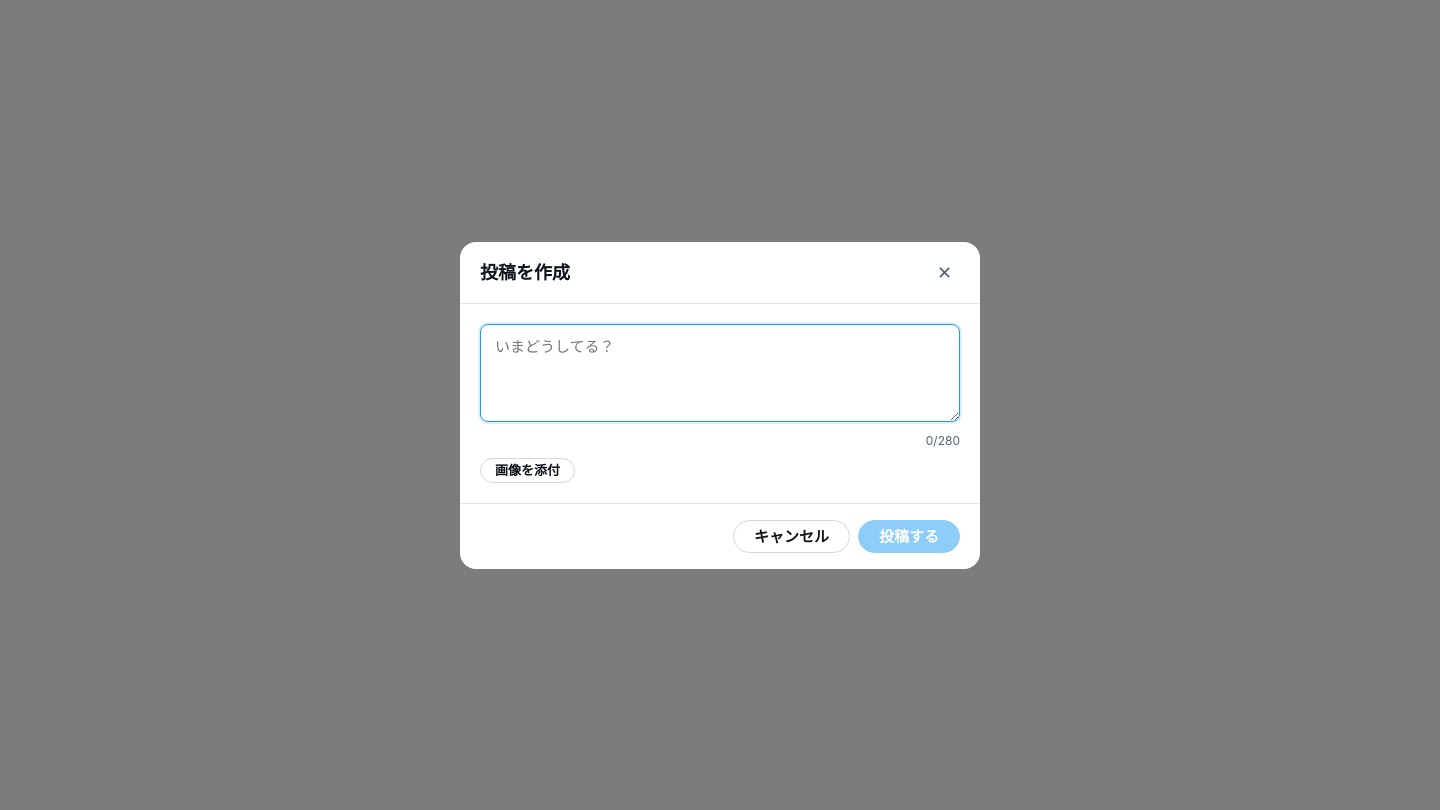
Scenario: CreatePostModal › 投稿失敗（無効クラス：APIエラー）→ エラーメッセージが表示される
In the text box with placeholder "いまどうしてる？": [720, 372] box [480, 324, 960, 422], type "投稿内容"
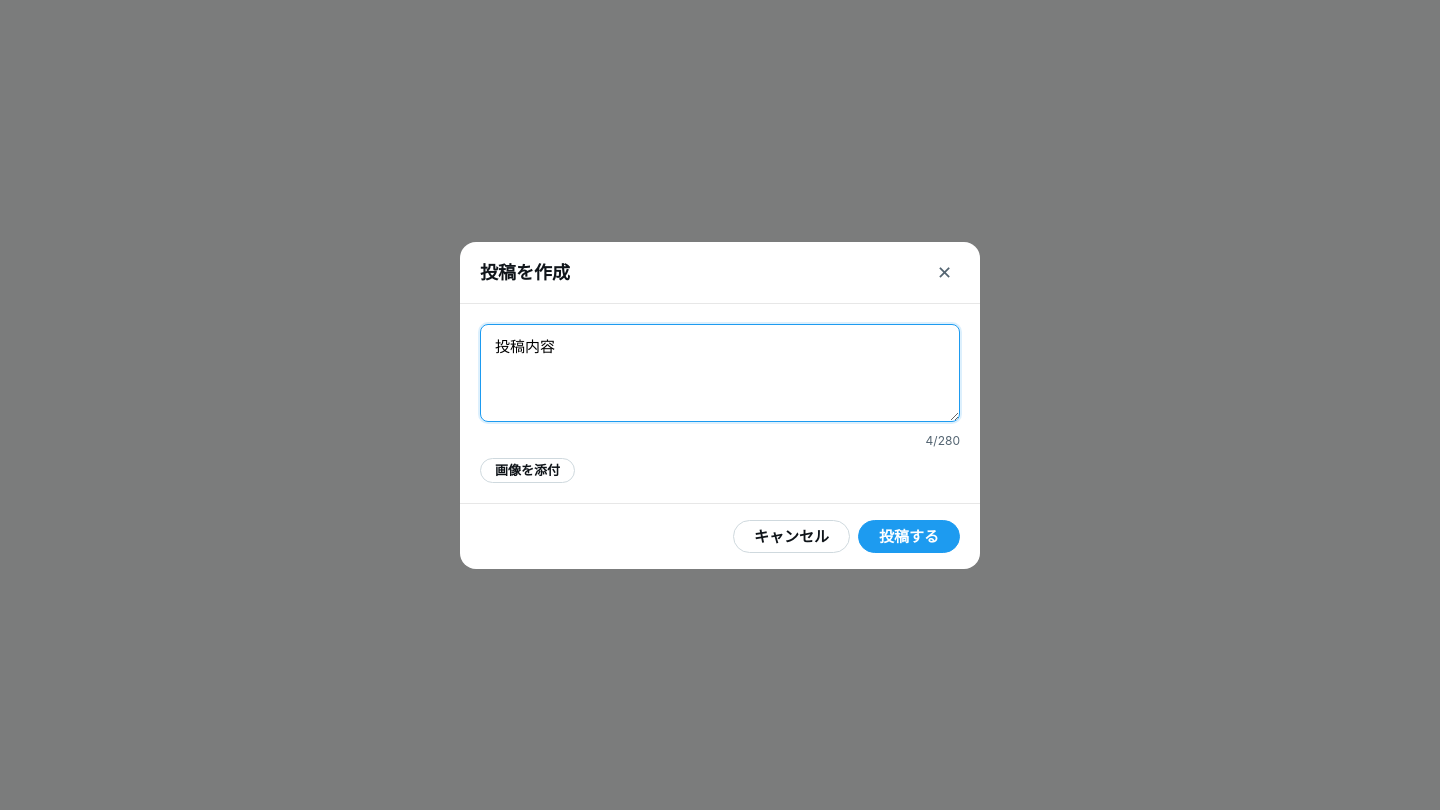
Click the button "投稿する": [909, 536] box [858, 520, 960, 552]
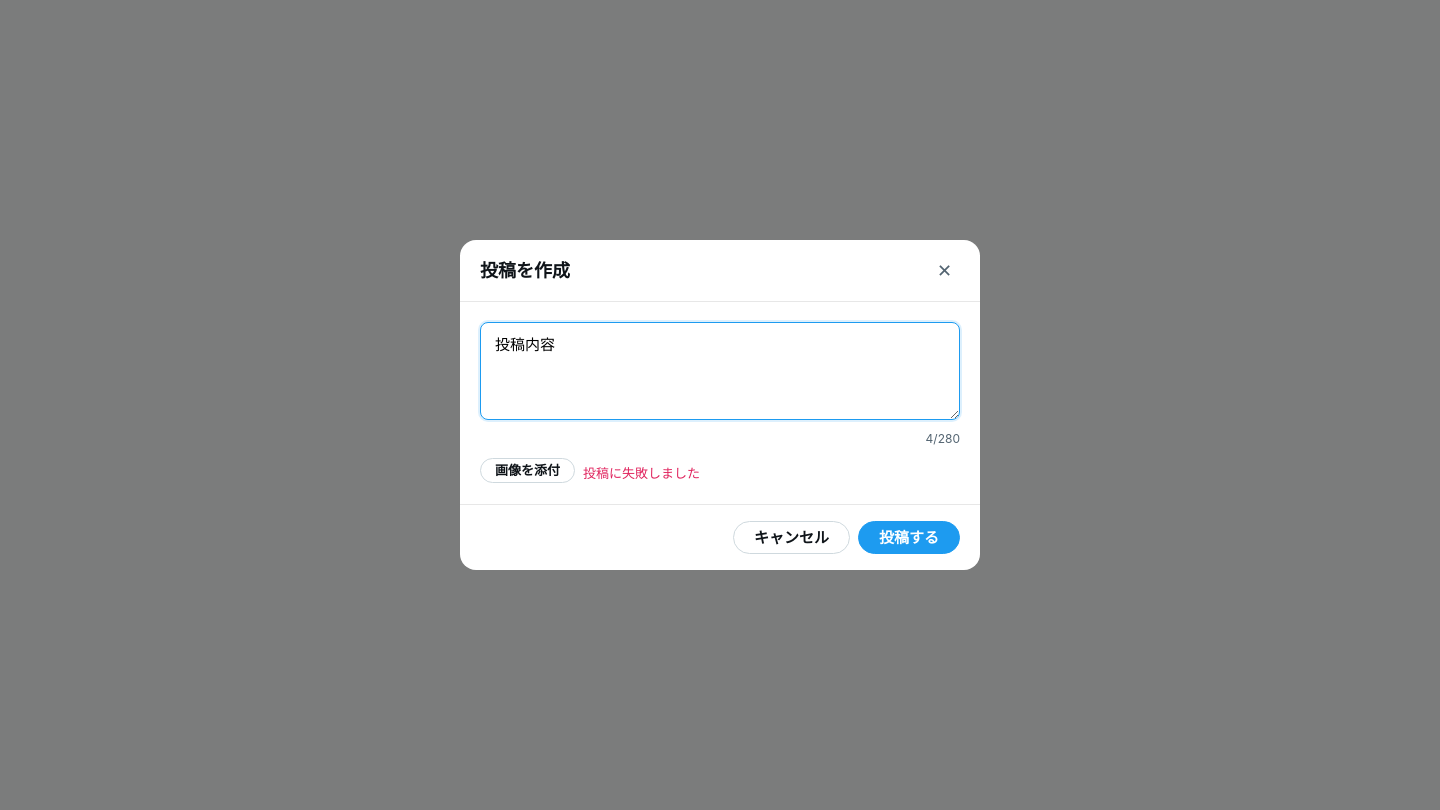
Now the text "投稿に失敗しました" is shown, box [583, 464, 700, 484]
